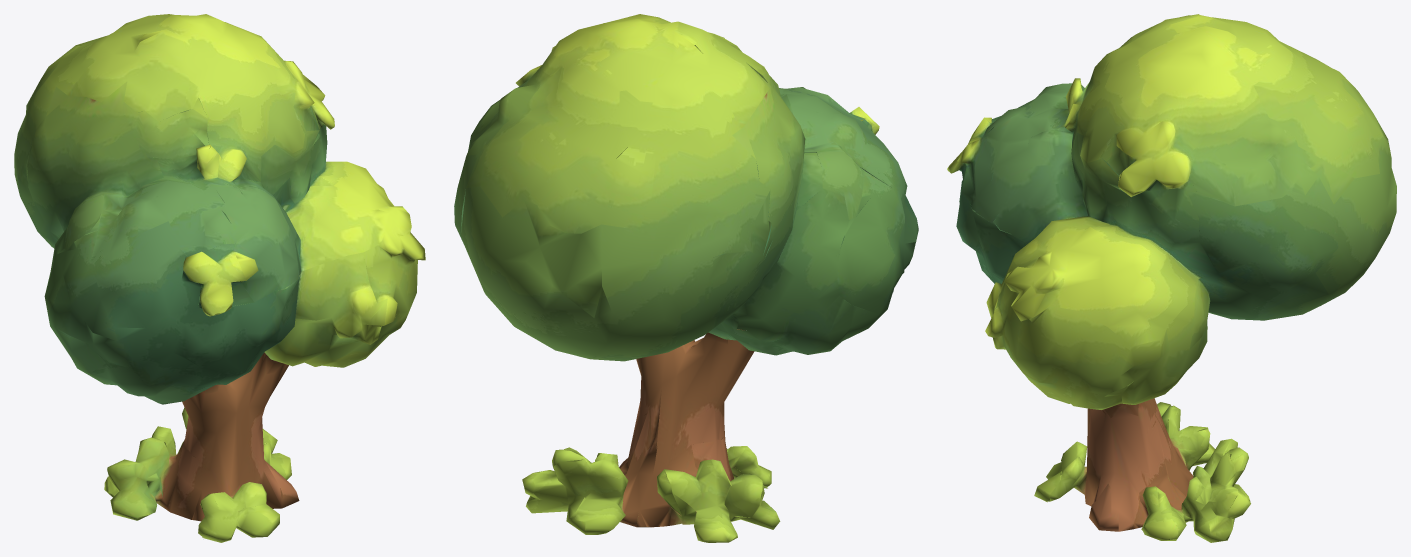
Rendered from M-6_01_tree_a.glb.
The picture shows the model from 3 angles, left to right: view 1: azimuth 30°, elevation 25°; view 2: azimuth 150°, elevation 25°; view 3: azimuth 270°, elevation 25°; orthographic projection. The views are drawn at different scales.
Parts seen in each view (by area): view 1: tree_a; view 2: tree_a; view 3: tree_a.
Boxes of the visible parts, <box> form: tree_a: <box>14,14,425,542</box>; tree_a: <box>454,14,918,542</box>; tree_a: <box>947,14,1396,542</box>.
Bounding box in the file's own units: 5.68 × 7.03 × 6.07.
1 material, 1 textured.
